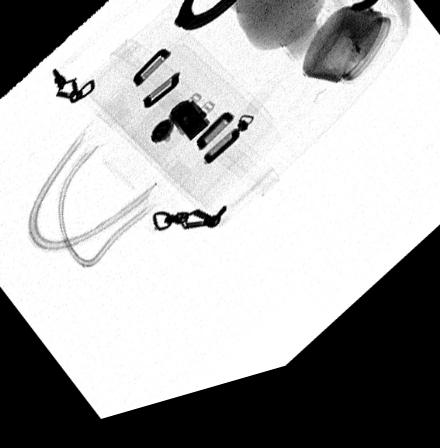HandCuffs: (170, 0, 250, 43)
